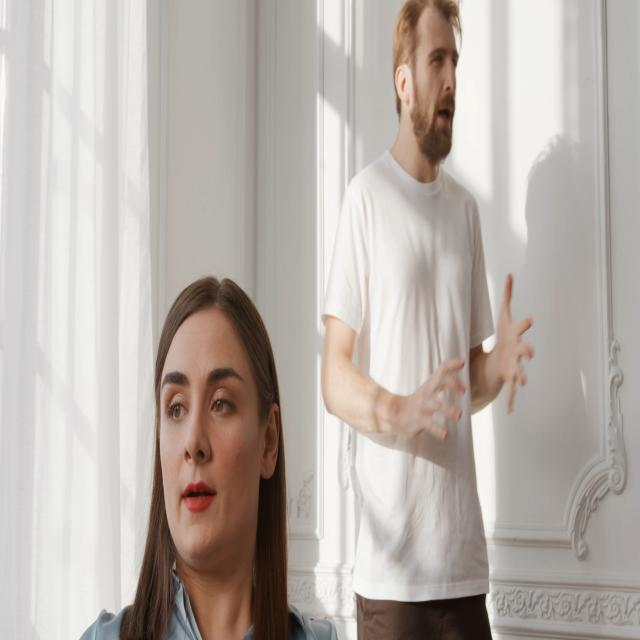angry: (382, 0, 491, 198)
stress: (135, 270, 303, 625)
